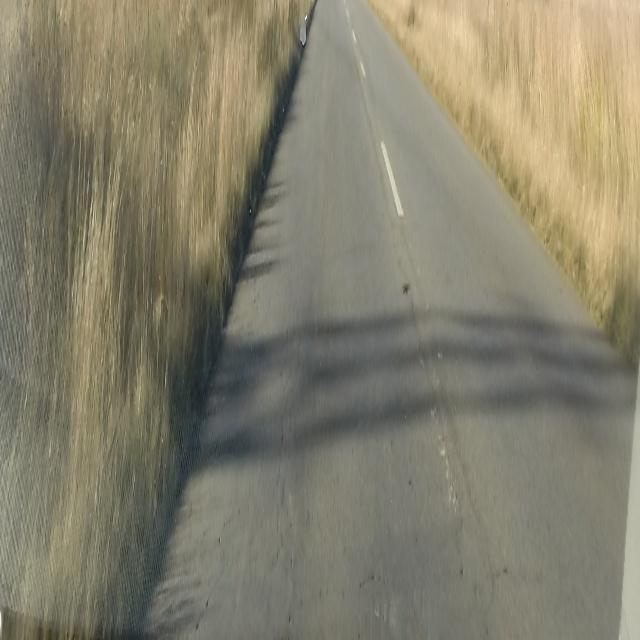pothole: (401, 280, 412, 296)
